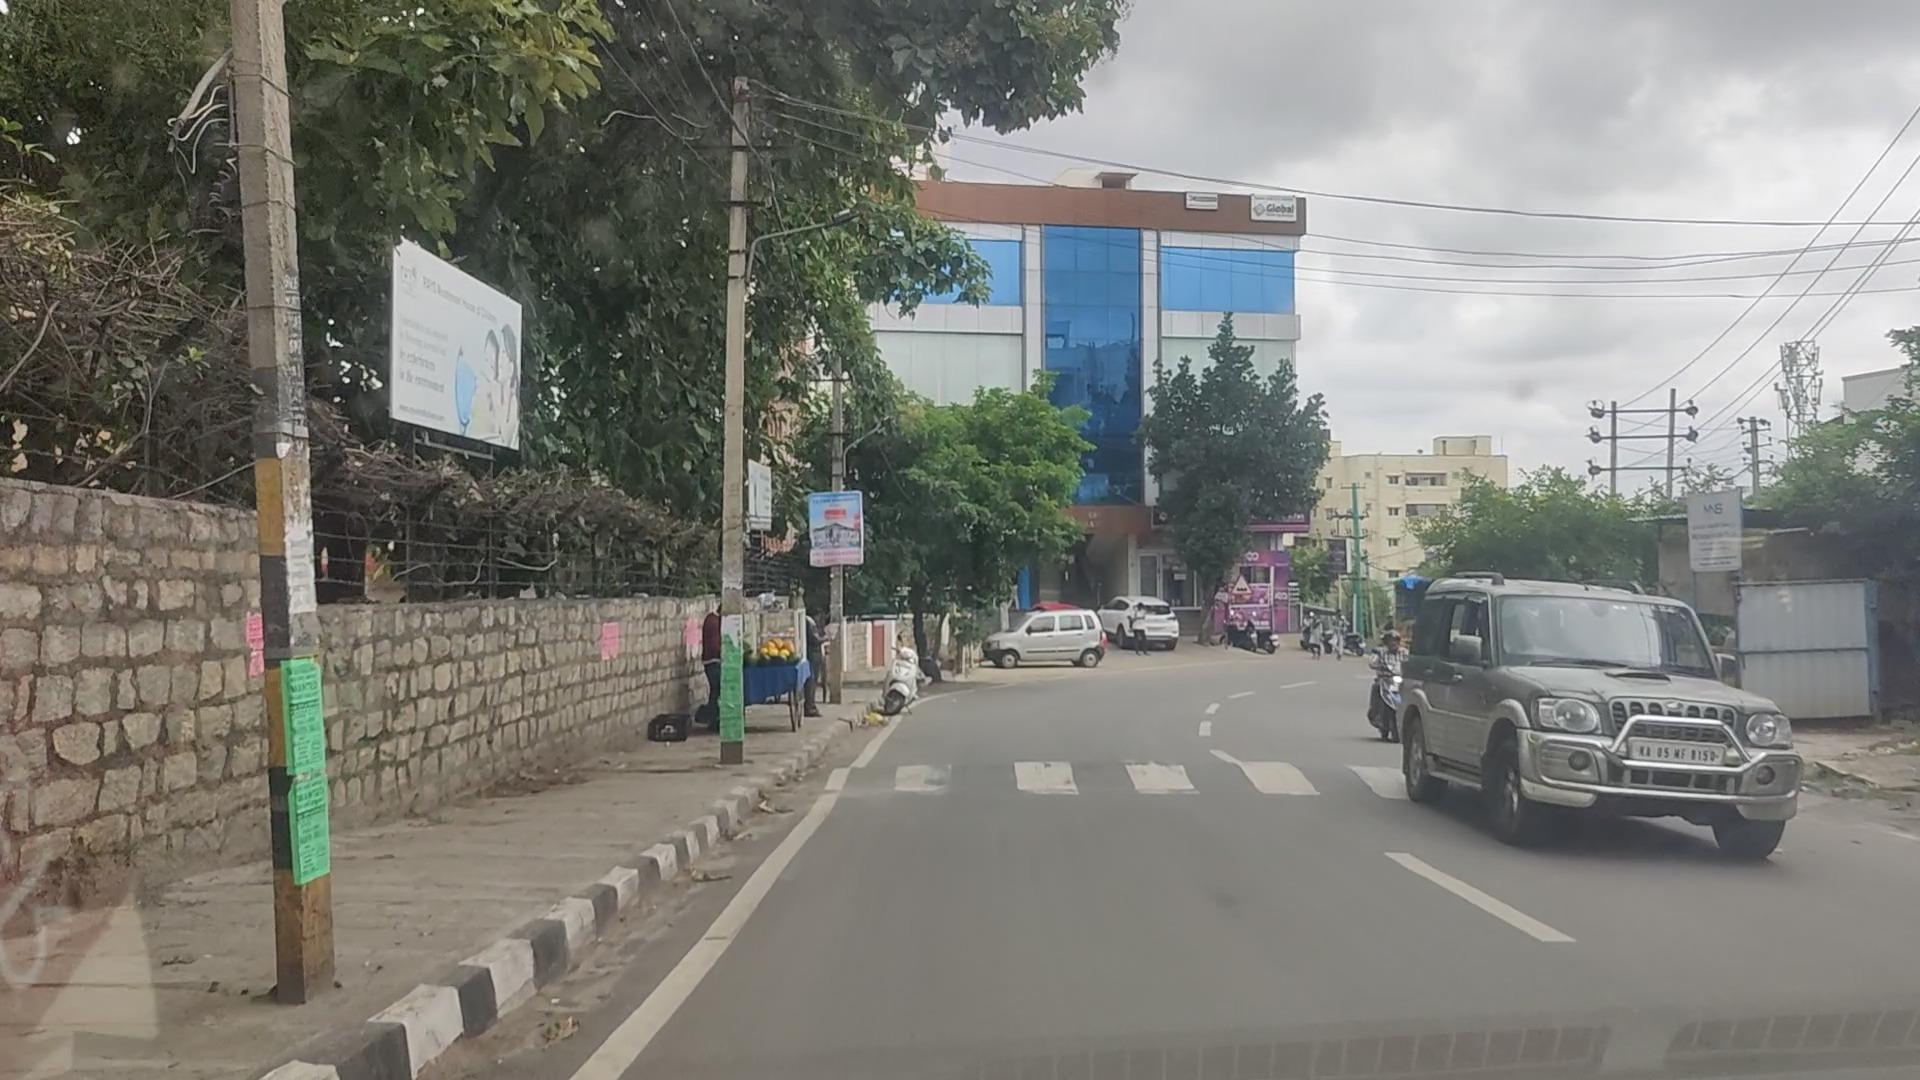LMV: (1407, 566, 1813, 857)
SpeedBump: (823, 746, 1389, 802)
